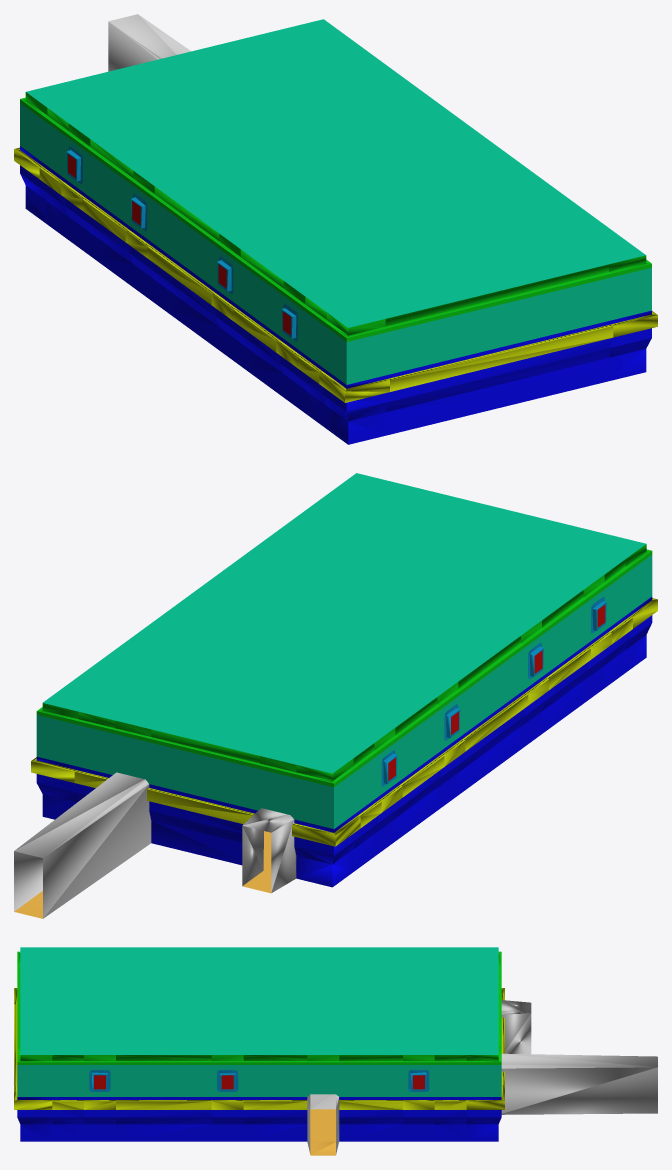
Rendered from storage room mesh.obj.
The picture shows the model from 3 angles, top to bottom: view 1: azimuth 30°, elevation 25°; view 2: azimuth 150°, elevation 25°; view 3: azimuth 270°, elevation 25°; orthographic projection. The views are drawn at different scales.
Visible parts, largest first — view 1: structure-window.008_structure-window.003; view 2: structure-window.008_structure-window.003; view 3: structure-window.008_structure-window.003.
Boxes of the visible parts, x1,y1,x2,y2 form: structure-window.008_structure-window.003: (14,14,657,444); structure-window.008_structure-window.003: (14,473,657,918); structure-window.008_structure-window.003: (14,947,657,1155).
Bounding box in the file's own units: 18.45 × 6 × 40.4.
